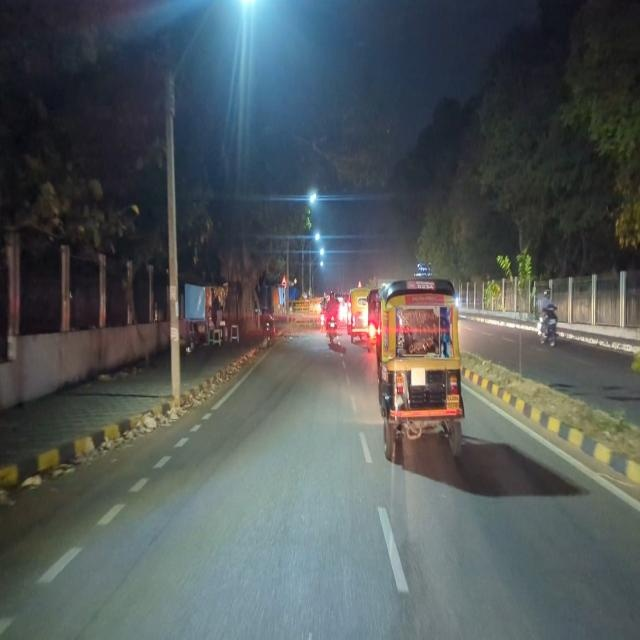bien_nguy_hiem: (281, 274, 287, 286)
